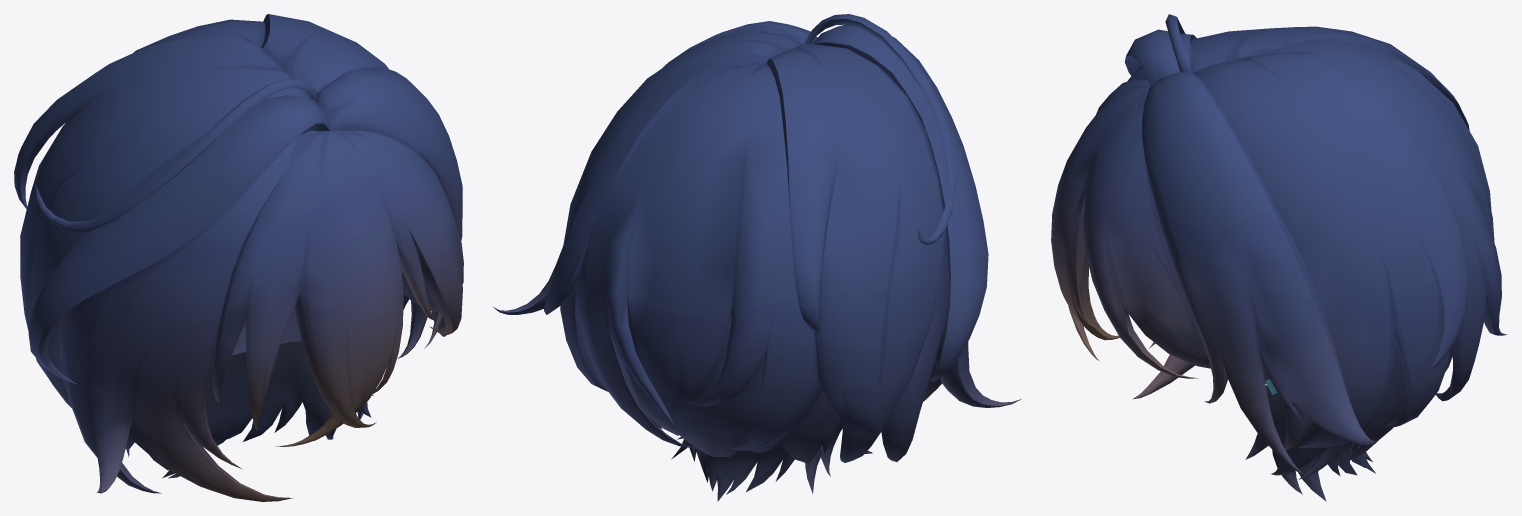
File: hair.glb
The picture shows the model from 3 angles, left to right: view 1: azimuth 30°, elevation 25°; view 2: azimuth 150°, elevation 25°; view 3: azimuth 270°, elevation 25°; orthographic projection. The views are drawn at different scales.
Visible parts, largest first — view 1: Bodyhair.dmx.001; view 2: Bodyhair.dmx.001; view 3: Bodyhair.dmx.001.
Boxes of the visible parts, left/top/right/bottom form: Bodyhair.dmx.001: left=14, top=14, right=463, bottom=501; Bodyhair.dmx.001: left=493, top=14, right=1021, bottom=501; Bodyhair.dmx.001: left=1051, top=14, right=1507, bottom=501.
Bounding box in the file's own units: 1.44 × 1.34 × 1.28.
1 material, 1 textured.
